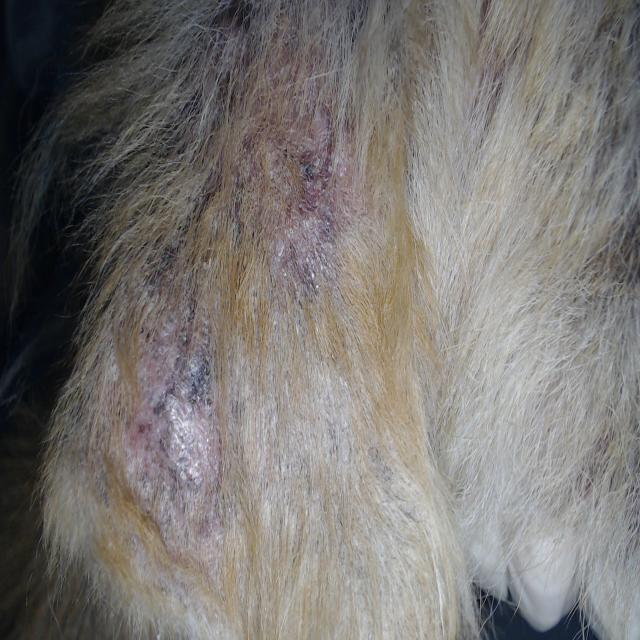demodicosis: (75, 303, 232, 547), (254, 96, 357, 275)
